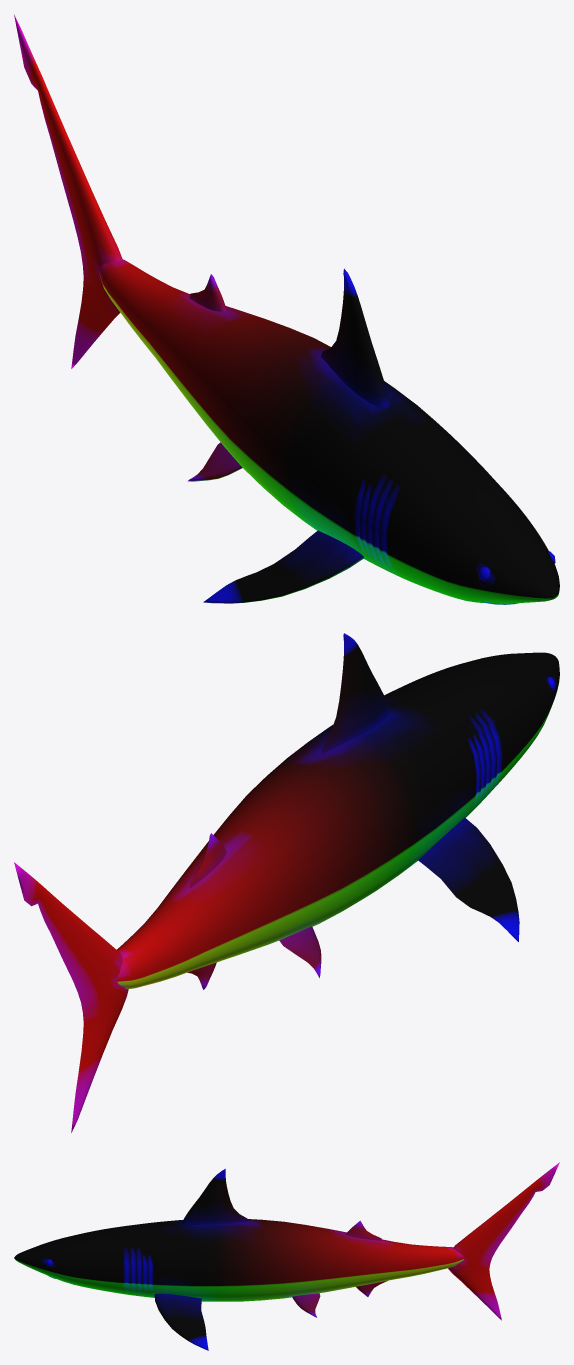
Rendered from shark.glb.
3 views of the same model, one above another, from view 1: azimuth 30°, elevation 25°; view 2: azimuth 150°, elevation 25°; view 3: azimuth 270°, elevation 25° (orthographic). The views are drawn at different scales.
Visible parts, largest first — view 1: shark; view 2: shark; view 3: shark.
Boxes of the visible parts, x1,y1,x2,y2 form: shark: [14, 14, 559, 604]; shark: [14, 633, 559, 1132]; shark: [14, 1162, 559, 1350].
Bounding box in the file's own units: 1.52 × 1.45 × 4.5.
